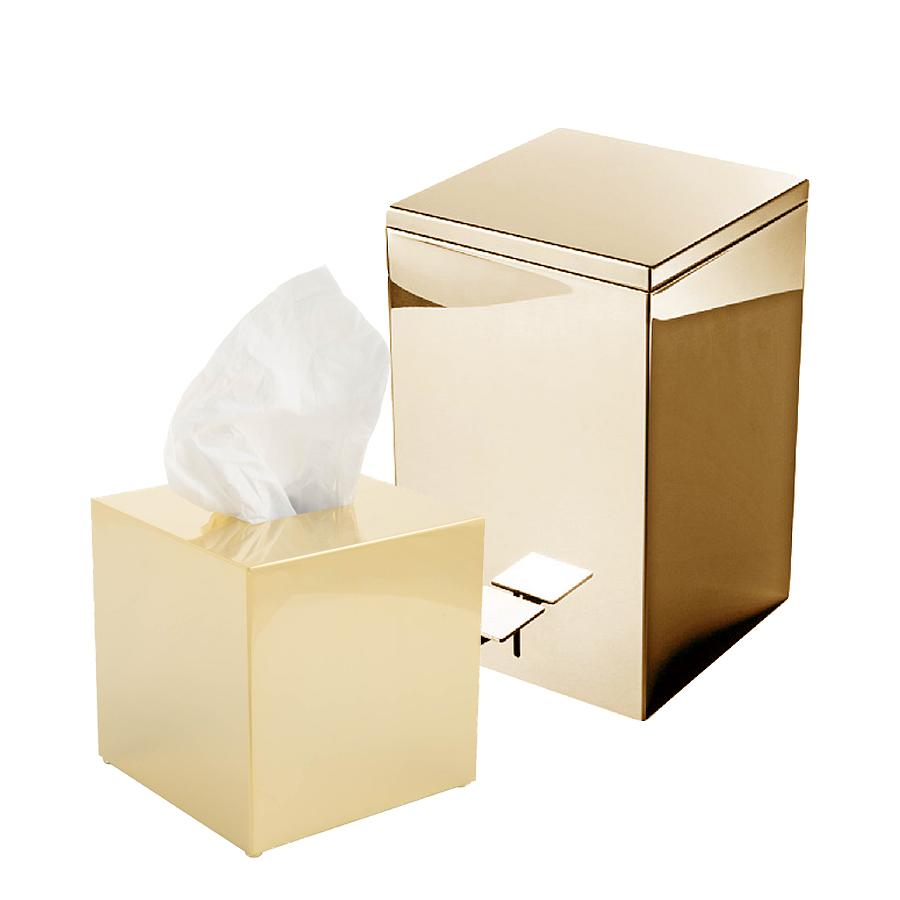Tissue: (167, 263, 394, 531)
